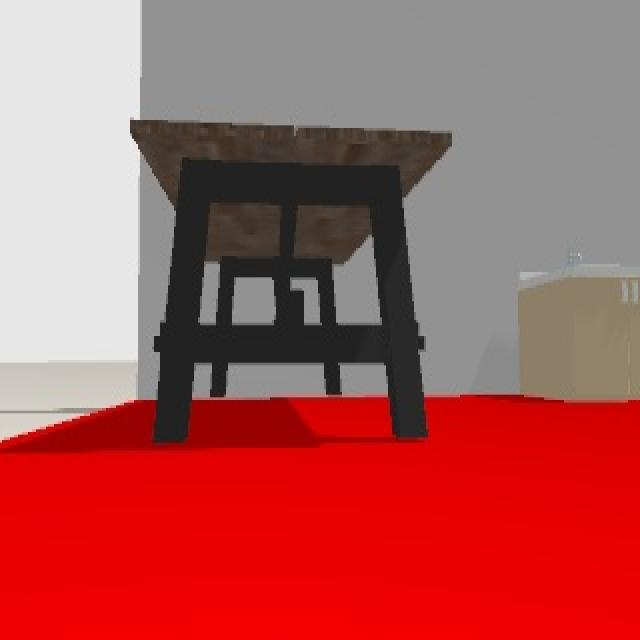dining: (125, 122, 451, 438)
